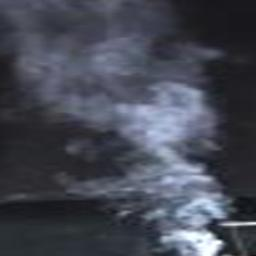smoke: (4, 0, 230, 255)
